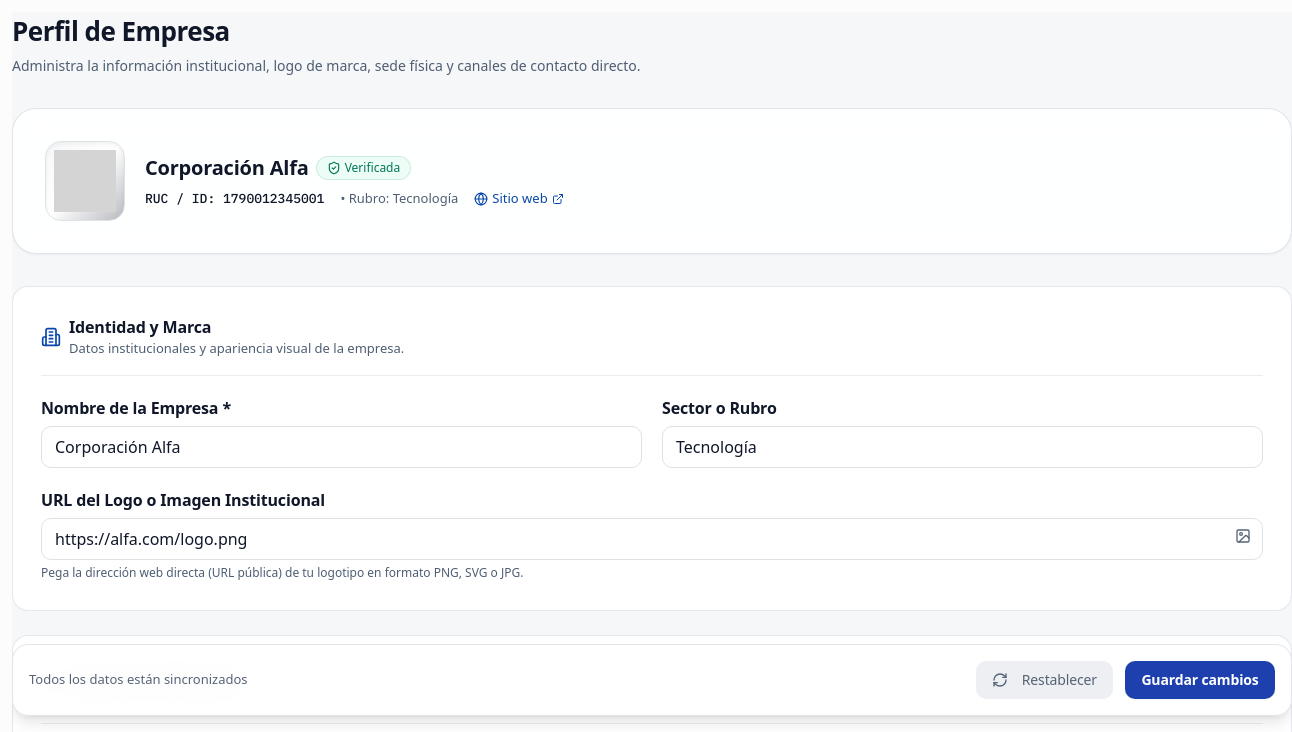
CompanyProfilePage › allows editing fields and submitting updates
The image size is (1292, 732).
Replace the text in the field showing "Corporación Alfa" with "Corporación Alfa Internacional" at coordinates (342, 446), box [41,426,642,468]
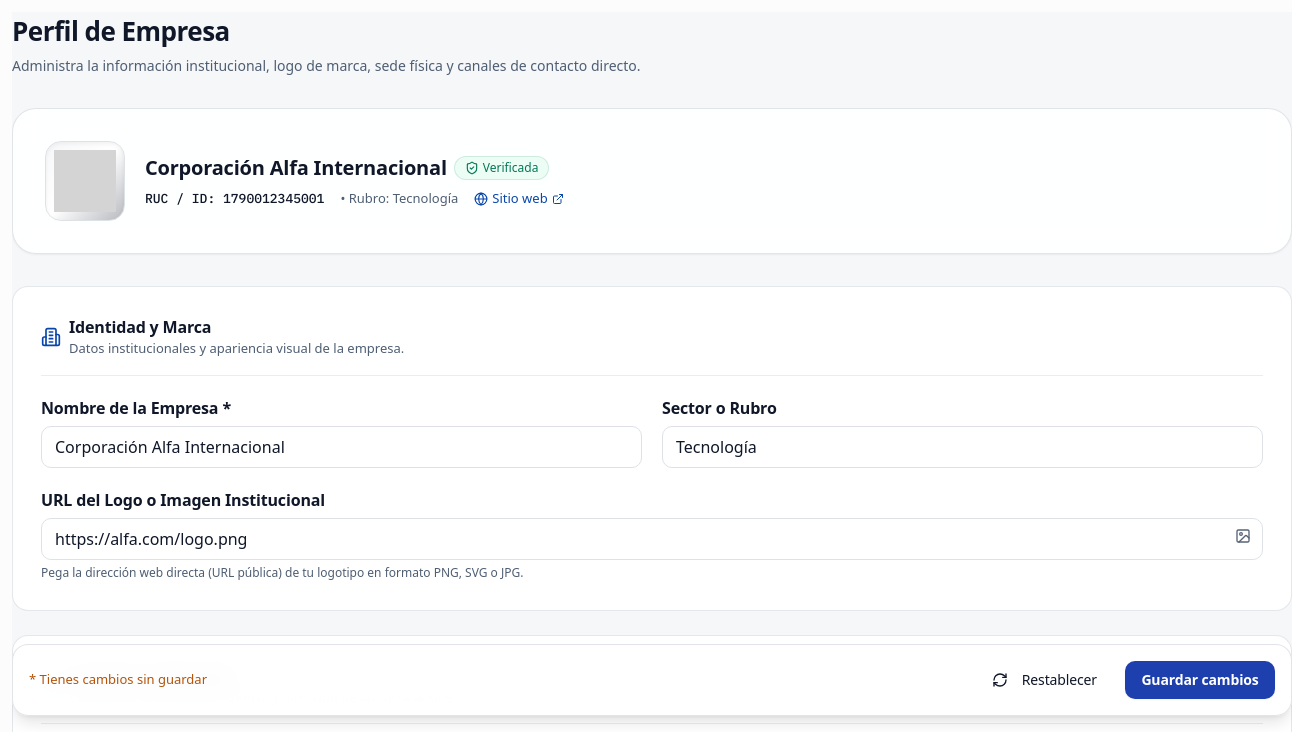
Expected: the text "* Tienes cambios sin guardar" is shown, [29,670,207,690]
Click the button "Guardar cambios" at coordinates (1200, 680), box [1125,661,1275,699]
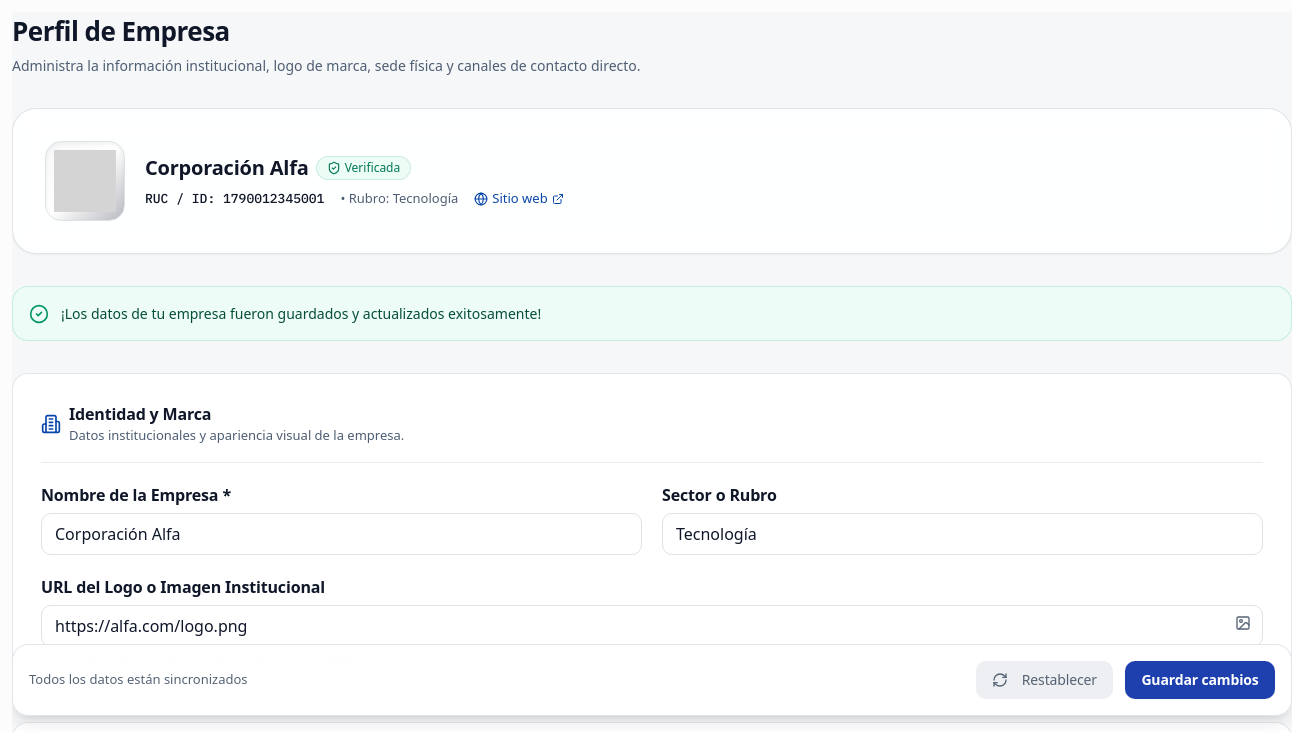
Expected: the text "¡Los datos de tu empresa fueron guardados y actualizados exitosamente!" is shown, [61,303,541,324]
